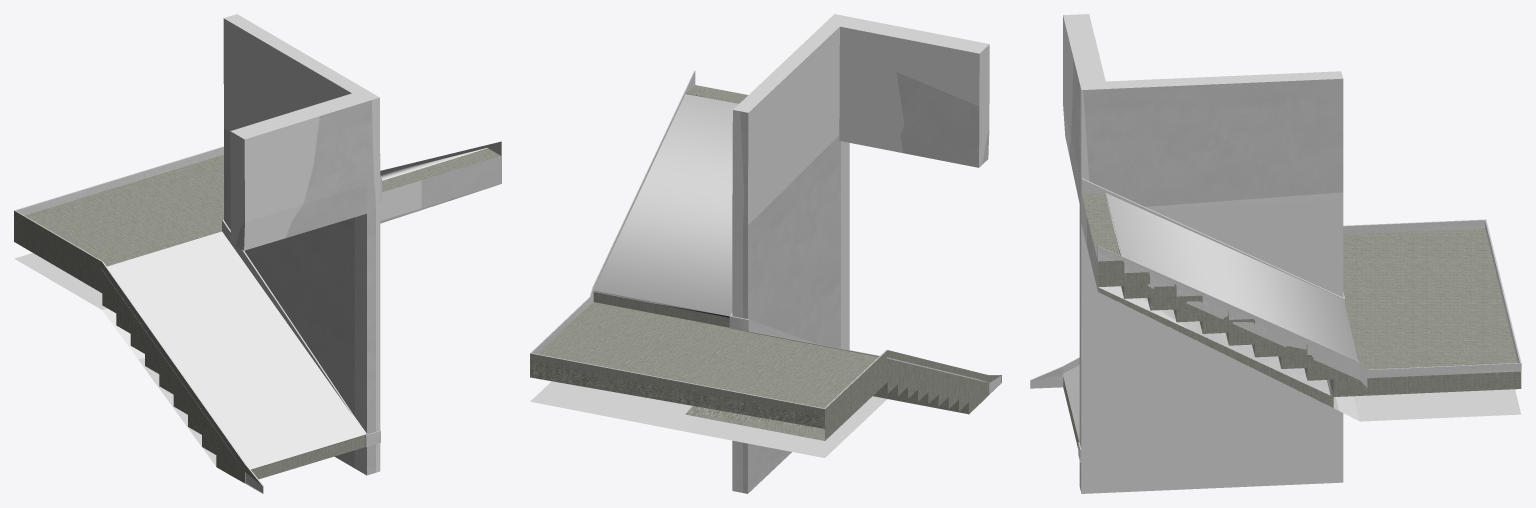
Rendered from 3_to_2_stair_1_sized.glb.
The picture shows the model from 3 angles, left to right: view 1: azimuth 30°, elevation 25°; view 2: azimuth 150°, elevation 25°; view 3: azimuth 270°, elevation 25°; orthographic projection. The views are drawn at different scales.
Parts seen in each view (by area): view 1: SIMP_COL, NOCOL_Cube_109; view 2: NOCOL_Cube_109, SIMP_COL; view 3: SIMP_COL, NOCOL_Cube_109.
Part boxes in pixels (bbox=[...]): SIMP_COL: bbox=[14, 14, 501, 492]; NOCOL_Cube_109: bbox=[14, 100, 501, 493]; NOCOL_Cube_109: bbox=[530, 70, 1001, 493]; SIMP_COL: bbox=[530, 14, 1001, 492]; SIMP_COL: bbox=[1030, 14, 1521, 493]; NOCOL_Cube_109: bbox=[1030, 58, 1521, 490].
Size of the model in its own units: 4.26 by 4.94 by 5.45.
Materials: 5 (2 with a texture image).
